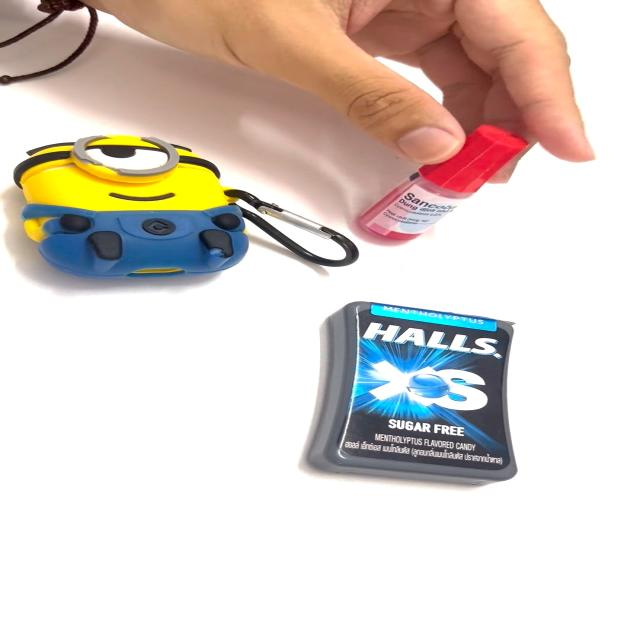airpod minion: (10, 128, 363, 288)
mint hall: (304, 294, 540, 498)
sancoba eyes: (373, 118, 528, 255)
